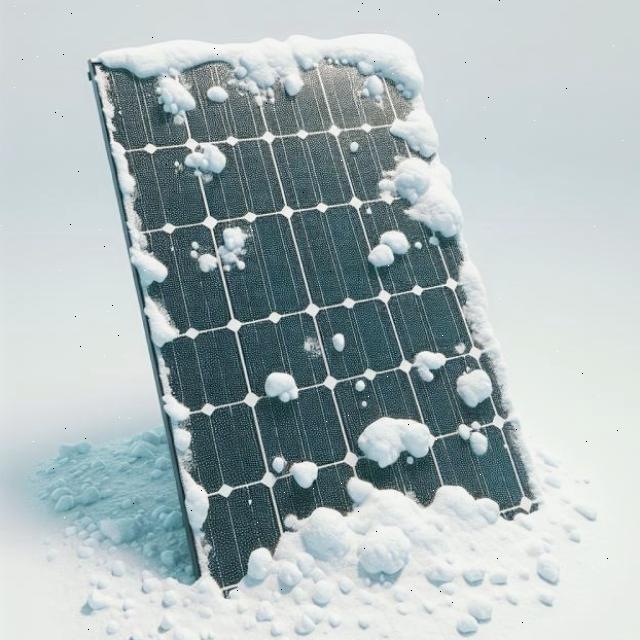Anomaly Solar Panel: (72, 0, 553, 609)
Snow: (67, 0, 550, 610), (93, 63, 180, 350), (159, 129, 233, 202), (350, 408, 435, 471), (182, 223, 253, 279), (356, 219, 416, 281), (443, 358, 501, 415), (447, 409, 497, 459), (255, 360, 302, 412), (266, 451, 323, 492), (404, 341, 449, 388), (202, 81, 231, 104), (326, 327, 349, 356)
